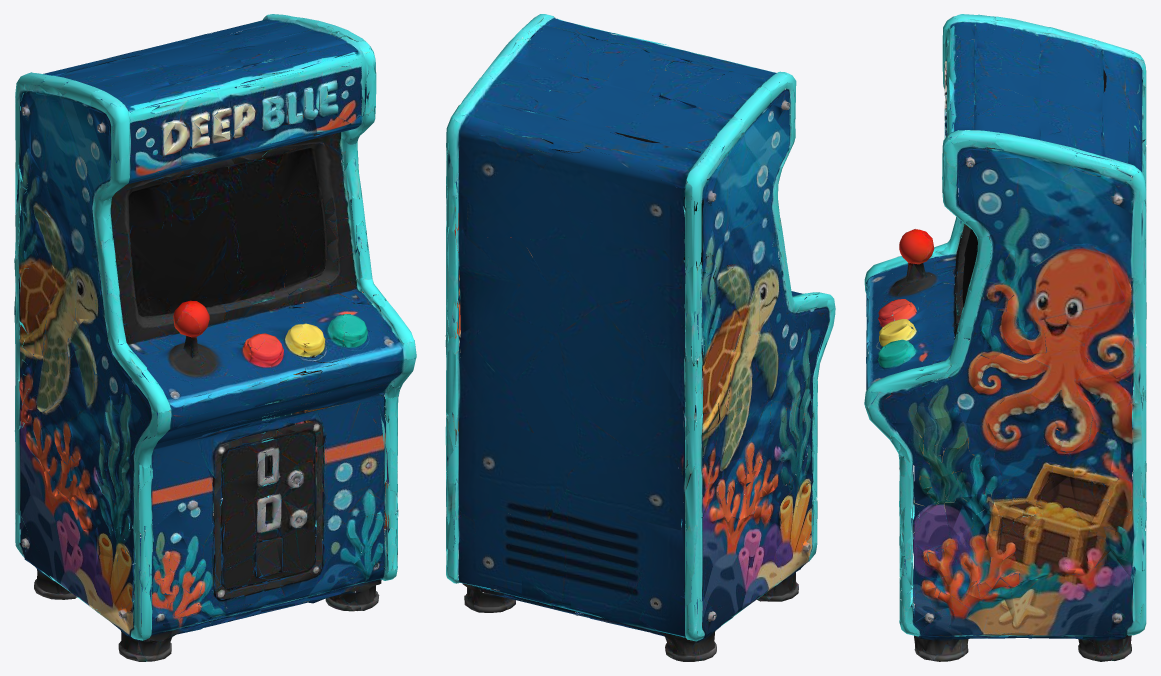
File: arcade_blue.glb
The picture shows the model from 3 angles, left to right: view 1: azimuth 30°, elevation 25°; view 2: azimuth 150°, elevation 25°; view 3: azimuth 270°, elevation 25°; orthographic projection. The views are drawn at different scales.
Parts seen in each view (by area): view 1: Mesh_0; view 2: Mesh_0; view 3: Mesh_0.
Part boxes in pixels (x1,y1,x2,y2): Mesh_0: (14, 14, 416, 661); Mesh_0: (445, 14, 835, 661); Mesh_0: (864, 14, 1146, 661).
Size of the model in its own units: 1 by 1.94 by 0.9374.
1 material, 1 textured.
